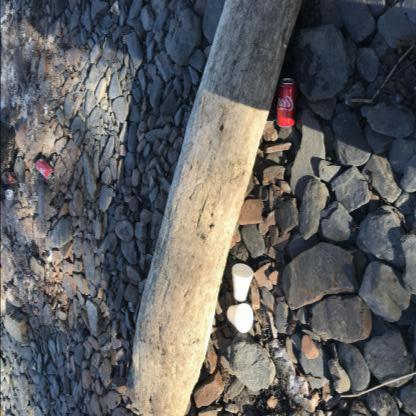Can: (276, 78, 296, 128), (36, 158, 53, 181), (1, 172, 19, 186), (5, 186, 15, 201)
Cup: (232, 263, 254, 302), (227, 303, 253, 333)
Pop tab: (49, 174, 52, 179)
Unlabeled litter: (46, 250, 52, 262)
